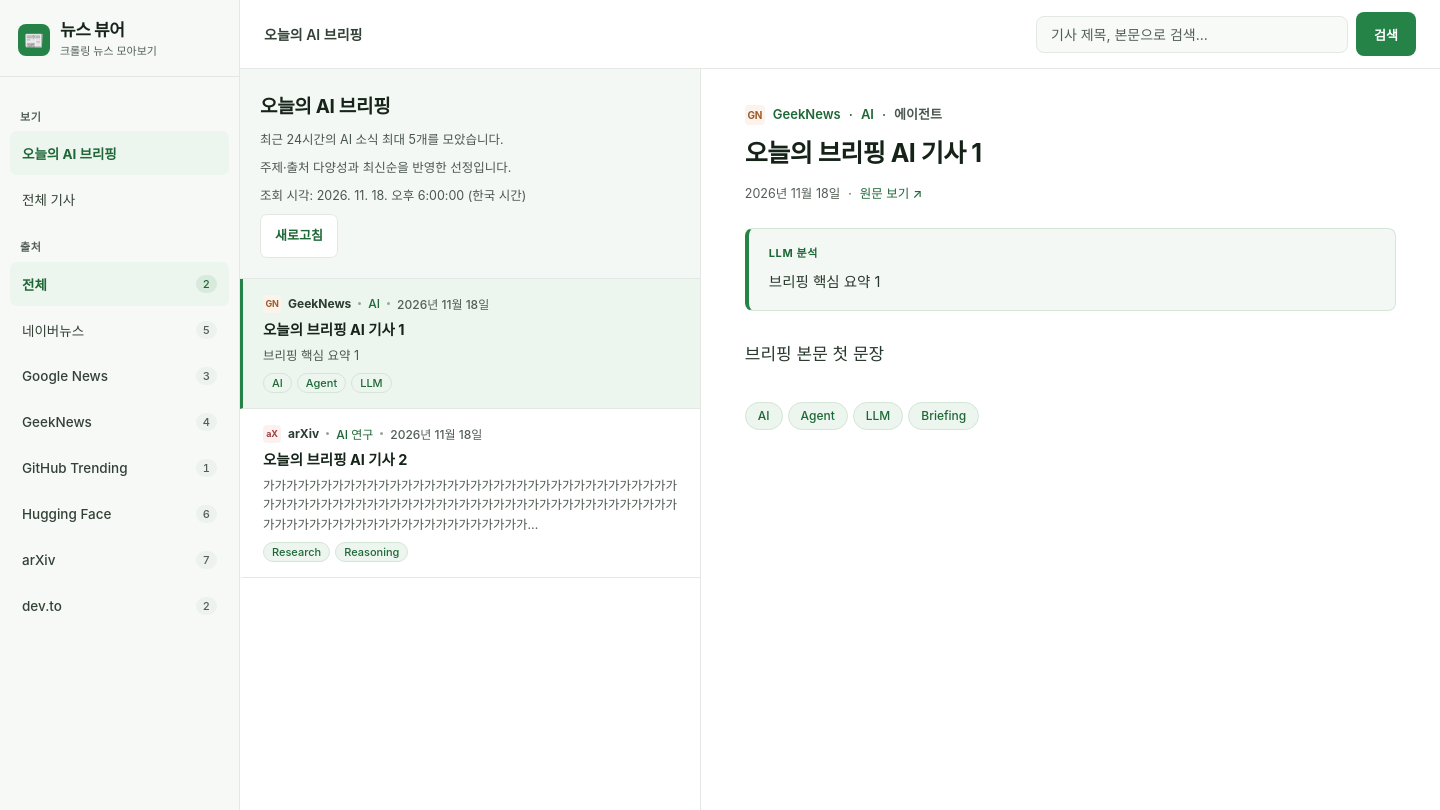
Test case: 뉴스 뷰어 전체 화면 사용자 시나리오 › 최초 진입 시 오늘의 AI 브리핑 보기를 열고 넓은 화면에서는 첫 번째 브리핑 기사를 상세 패널에 자동 표시한다
Expected: the heading "오늘의 브리핑 AI 기사 1" is shown, [745,138,982,168]
Expected: the text "최근 24시간의 AI 소식 최대 5개를 모았습니다." is shown, [260,132,504,146]
Click the button "오늘의 브리핑 AI 기사 2" at (470, 493), box [240,409,700,578]
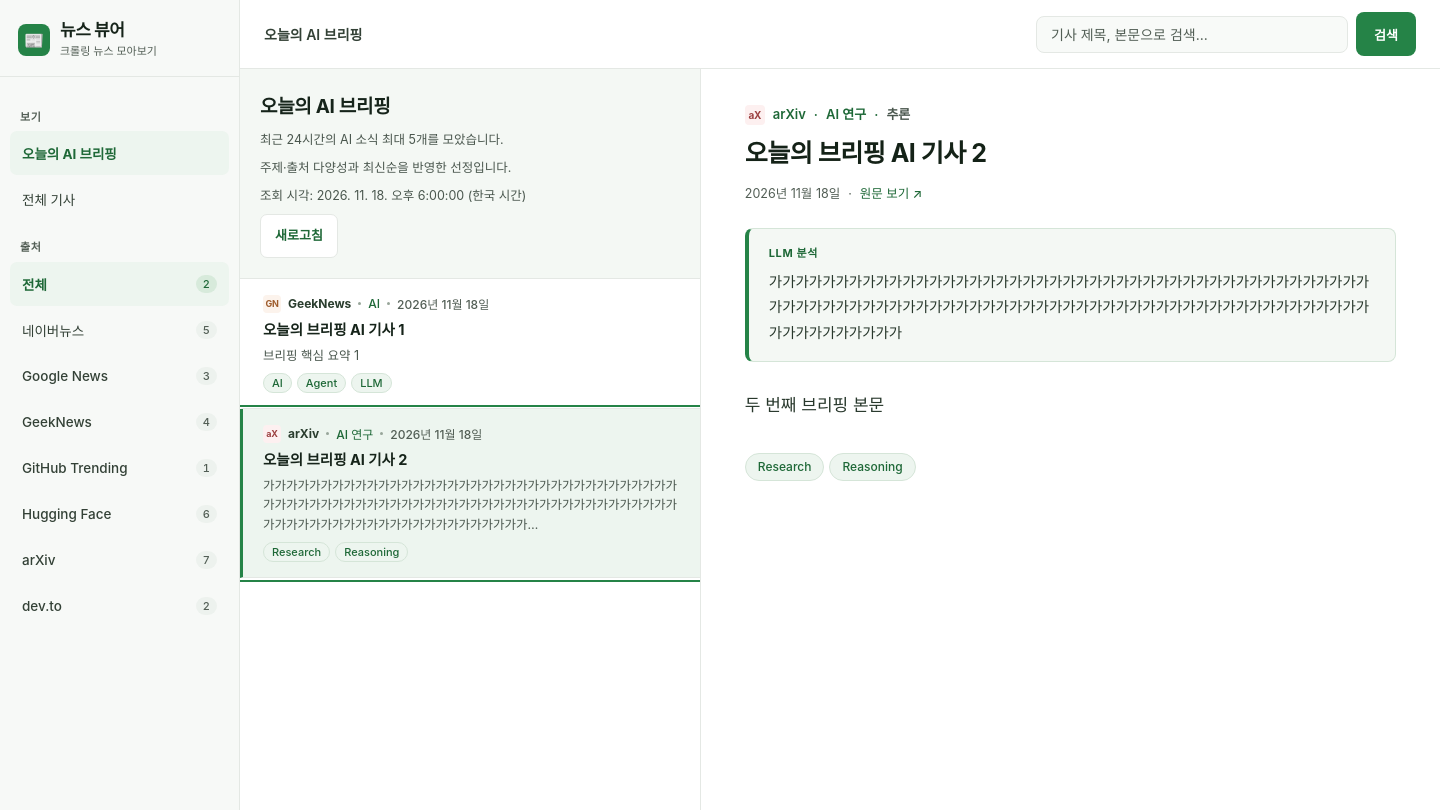
Expected: the heading "오늘의 브리핑 AI 기사 2" is shown, [745,138,986,168]
